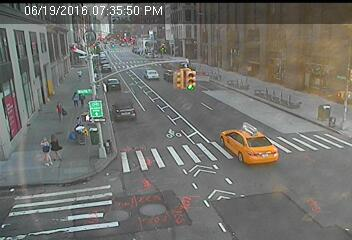neg: (10, 99, 38, 137), (330, 32, 351, 66), (309, 36, 328, 62), (270, 182, 288, 206), (69, 121, 86, 143), (89, 109, 103, 127), (135, 60, 148, 77), (67, 108, 77, 122), (132, 44, 140, 56), (87, 85, 95, 95)
pos: (34, 134, 55, 163), (47, 100, 67, 126), (50, 133, 70, 159), (66, 88, 81, 108), (73, 63, 86, 80)
